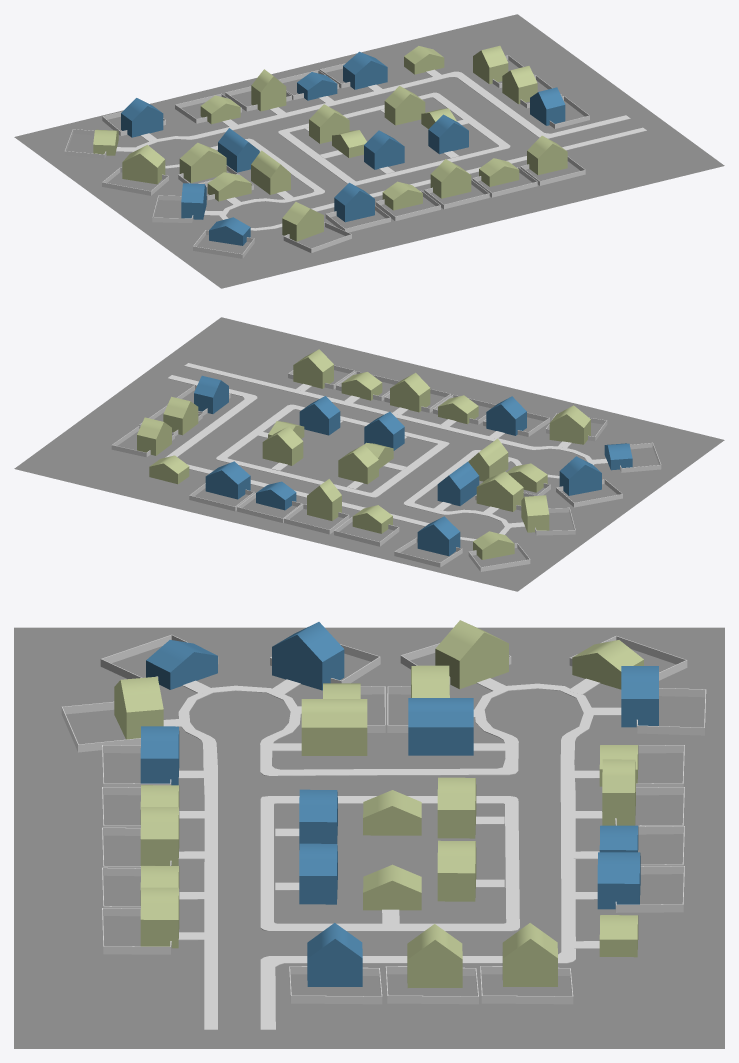
File: Environment.FBX
3 renders of one model, top to bottom at view 1: azimuth 30°, elevation 25°; view 2: azimuth 150°, elevation 25°; view 3: azimuth 270°, elevation 25°, orthographic. The views are drawn at different scales.
Visible parts, largest first — view 1: Ground, Object001, House11, House10, House09, House17, House13, House03, House06, House0289, House23, House04 (+23 smaller); view 2: Ground, Object001, House11, House14, House09, House17, House01, House03, House027, House23, House24, House06 (+22 smaller); view 3: Ground, Object001, House14, House13, House01, House10, House22, House20, House21, House02, House03, House24 (+28 smaller).
Boxes of the visible parts, x1,y1,x2,y2 form: Ground: [14, 14, 724, 288]; Object001: [133, 71, 646, 230]; House11: [179, 142, 226, 182]; House10: [122, 145, 165, 184]; House09: [121, 98, 163, 137]; House17: [343, 51, 387, 89]; House13: [251, 150, 290, 194]; House03: [282, 202, 323, 241]; House06: [430, 159, 471, 198]; House0289: [364, 130, 404, 169]; House23: [428, 114, 468, 154]; House04: [334, 182, 374, 222]; Ground: [14, 317, 724, 591]; Object001: [165, 363, 594, 541]; House11: [476, 471, 523, 511]; House14: [437, 461, 479, 505]; House09: [417, 516, 460, 556]; House17: [205, 461, 250, 499]; House01: [559, 456, 601, 495]; House03: [549, 405, 590, 444]; House027: [262, 426, 303, 465]; House23: [299, 396, 340, 435]; House24: [338, 444, 378, 484]; House06: [390, 372, 430, 412]; Ground: [14, 627, 724, 1048]; Object001: [178, 683, 593, 1029]; House14: [408, 698, 473, 755]; House13: [301, 699, 367, 755]; House01: [272, 622, 344, 690]; House10: [435, 620, 508, 689]; House22: [307, 923, 362, 986]; House20: [407, 924, 462, 987]; House21: [502, 923, 557, 986]; House02: [146, 640, 217, 689]; House03: [114, 676, 163, 739]; House24: [437, 777, 476, 838].
Size of the model in its own units: 20544 by 1275 by 14652.
